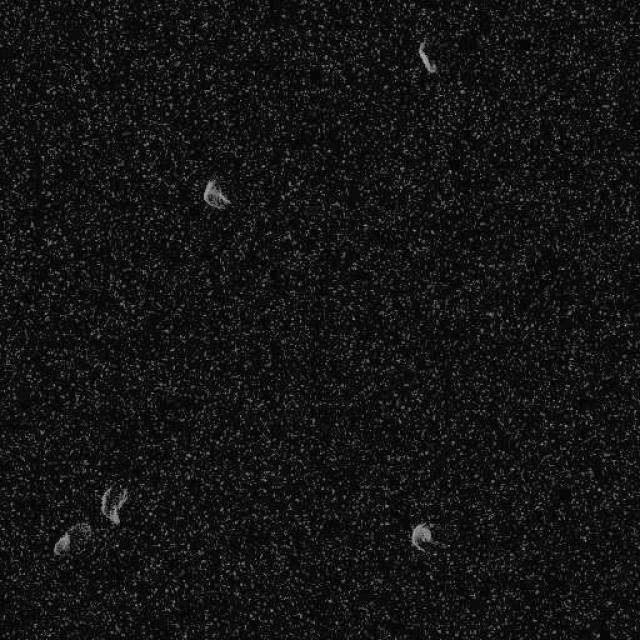D2: (52, 520, 92, 558), (99, 483, 129, 525), (201, 178, 231, 210), (417, 38, 438, 74), (410, 521, 434, 551)
